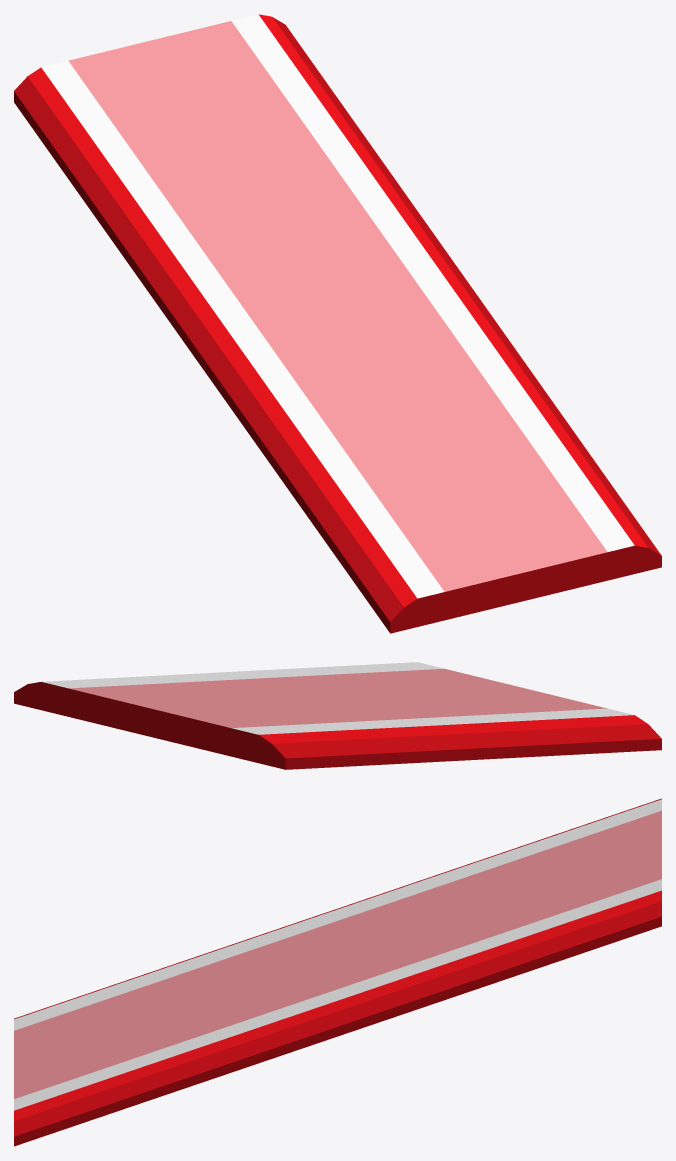
The model's file is longf3.fbx.
3 renders of one model, top to bottom at view 1: azimuth 30°, elevation 25°; view 2: azimuth 150°, elevation 25°; view 3: azimuth 270°, elevation 25°, orthographic. The views are drawn at different scales.
Visible parts, largest first — view 1: InclineLong3; view 2: InclineLong3; view 3: InclineLong3.
Part boxes in pixels (left/top/right/bottom): InclineLong3: left=14, top=14, right=661, bottom=633; InclineLong3: left=14, top=662, right=661, bottom=769; InclineLong3: left=14, top=798, right=661, bottom=1146.
Bounding box in the file's own units: 10 × 10 × 24.
